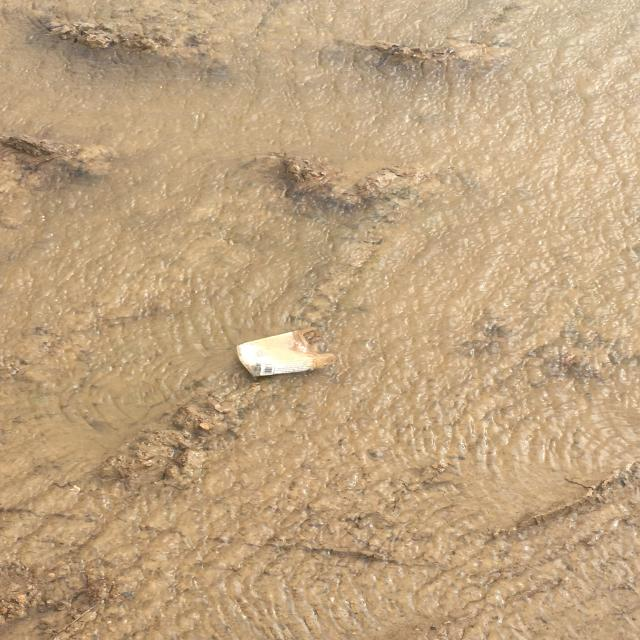Plastic packaging: (232, 325, 340, 381)
